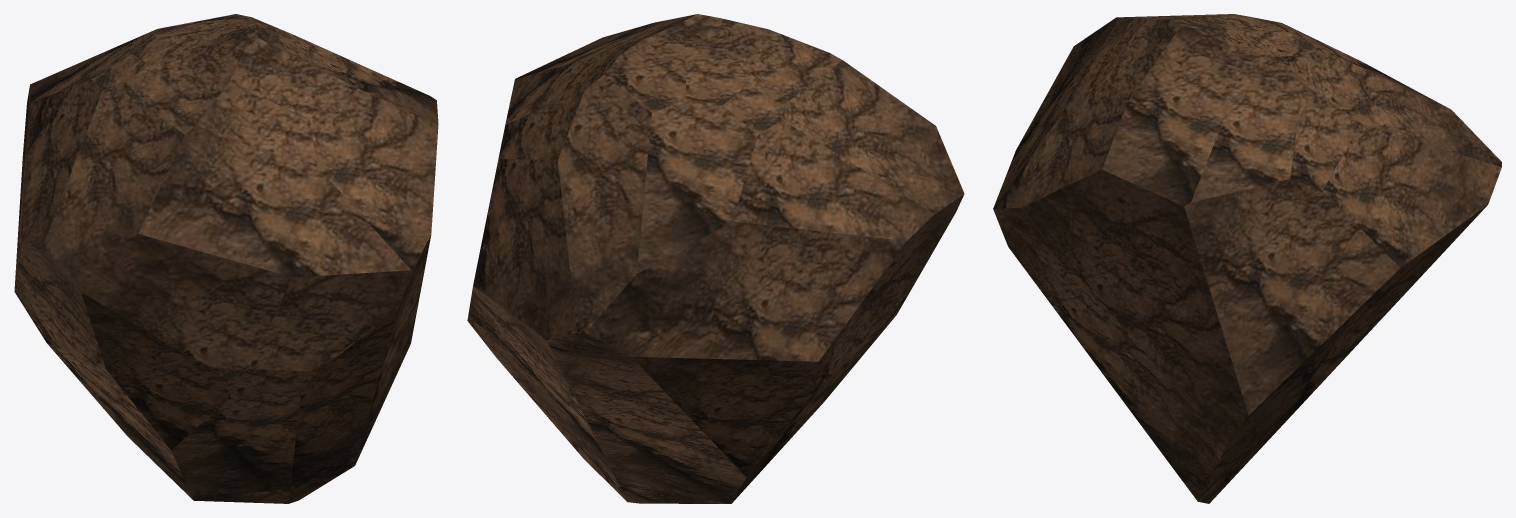
The model's file is rocks_misc_01.obj.
The picture shows the model from 3 angles, left to right: view 1: azimuth 30°, elevation 25°; view 2: azimuth 150°, elevation 25°; view 3: azimuth 270°, elevation 25°; orthographic projection. The views are drawn at different scales.
Visible parts, largest first — view 1: mat0model0surf12, mat0model0surf4, mat0model0surf19, mat0model0surf5, mat0model0surf3, mat0model0surf11, mat0model0surf0, mat0model0surf13, mat0model0surf7, mat0model0surf1, mat0model0surf16, mat0model0surf22 (+10 smaller); view 2: mat0model0surf10, mat0model0surf6, mat0model0surf24, mat0model0surf18, mat0model0surf7, mat0model0surf25, mat0model0surf5, mat0model0surf8, mat0model0surf14, mat0model0surf1, mat0model0surf16, mat0model0surf26 (+6 smaller); view 3: mat0model0surf28, mat0model0surf23, mat0model0surf15, mat0model0surf25, mat0model0surf27, mat0model0surf30, mat0model0surf14, mat0model0surf24, mat0model0surf19, mat0model0surf31, mat0model0surf12, mat0model0surf22 (+4 smaller).
Part boxes in pixels (left/top/right/bottom): mat0model0surf12: left=138, top=126, right=410, bottom=277; mat0model0surf4: left=72, top=234, right=292, bottom=379; mat0model0surf19: left=309, top=89, right=438, bottom=270; mat0model0surf5: left=41, top=88, right=184, bottom=272; mat0model0surf3: left=171, top=389, right=301, bottom=503; mat0model0surf11: left=249, top=270, right=412, bottom=371; mat0model0surf0: left=81, top=292, right=228, bottom=450; mat0model0surf13: left=288, top=310, right=397, bottom=503; mat0model0surf7: left=22, top=79, right=102, bottom=249; mat0model0surf1: left=14, top=242, right=105, bottom=368; mat0model0surf16: left=118, top=48, right=244, bottom=134; mat0model0surf22: left=229, top=38, right=359, bottom=118; mat0model0surf10: left=585, top=221, right=906, bottom=361; mat0model0surf6: left=547, top=333, right=746, bottom=503; mat0model0surf24: left=558, top=75, right=651, bottom=332; mat0model0surf18: left=636, top=99, right=757, bottom=273; mat0model0surf7: left=733, top=120, right=934, bottom=240; mat0model0surf25: left=473, top=158, right=576, bottom=340; mat0model0surf5: left=782, top=60, right=964, bottom=213; mat0model0surf8: left=631, top=356, right=818, bottom=476; mat0model0surf14: left=467, top=285, right=626, bottom=501; mat0model0surf1: left=811, top=194, right=964, bottom=394; mat0model0surf16: left=720, top=18, right=842, bottom=105; mat0model0surf26: left=604, top=21, right=686, bottom=112; mat0model0surf28: left=1184, top=178, right=1400, bottom=415; mat0model0surf23: left=1020, top=169, right=1248, bottom=446; mat0model0surf15: left=993, top=208, right=1225, bottom=501; mat0model0surf25: left=1322, top=123, right=1501, bottom=267; mat0model0surf27: left=1102, top=25, right=1236, bottom=206; mat0model0surf30: left=1191, top=57, right=1302, bottom=202; mat0model0surf14: left=1198, top=205, right=1487, bottom=503; mat0model0surf24: left=1289, top=47, right=1501, bottom=167; mat0model0surf19: left=993, top=79, right=1127, bottom=208; mat0model0surf31: left=1290, top=84, right=1360, bottom=190; mat0model0surf12: left=994, top=17, right=1118, bottom=206; mat0model0surf22: left=1105, top=19, right=1181, bottom=102.
Size of the model in its own units: 153 by 170 by 173.
